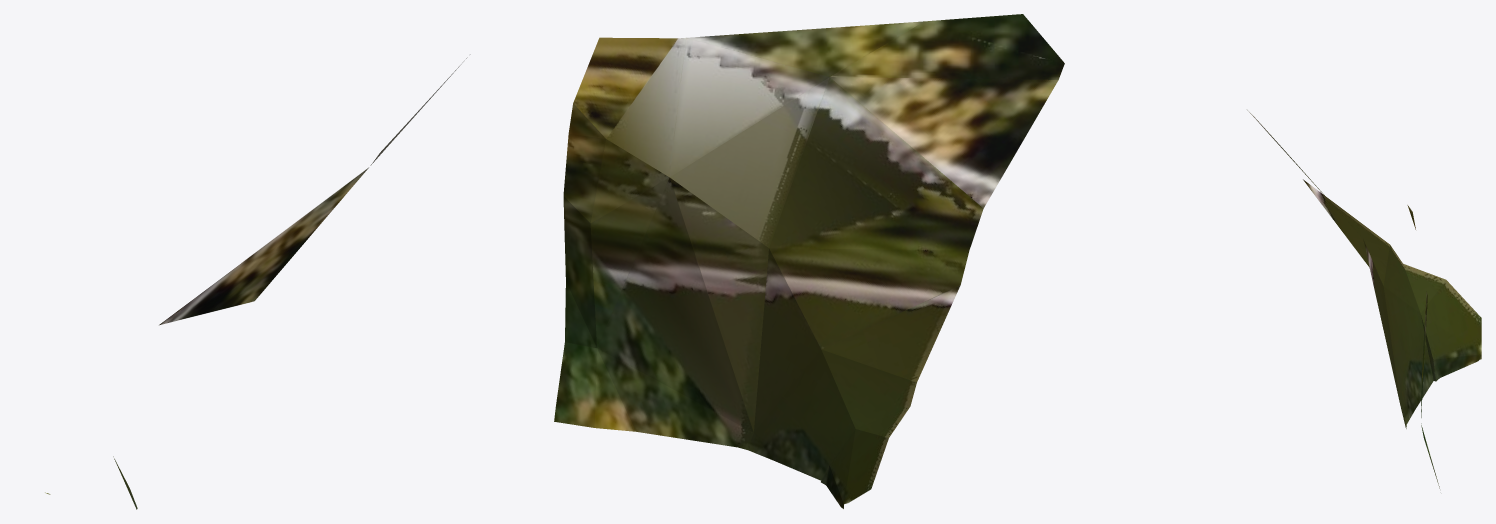
The picture shows the model from 3 angles, left to right: view 1: azimuth 30°, elevation 25°; view 2: azimuth 150°, elevation 25°; view 3: azimuth 270°, elevation 25°; orthographic projection. The views are drawn at different scales.
Bounding box in the file's own units: 1.67 × 1.67 × 1.67.
3 materials, 3 textured.
